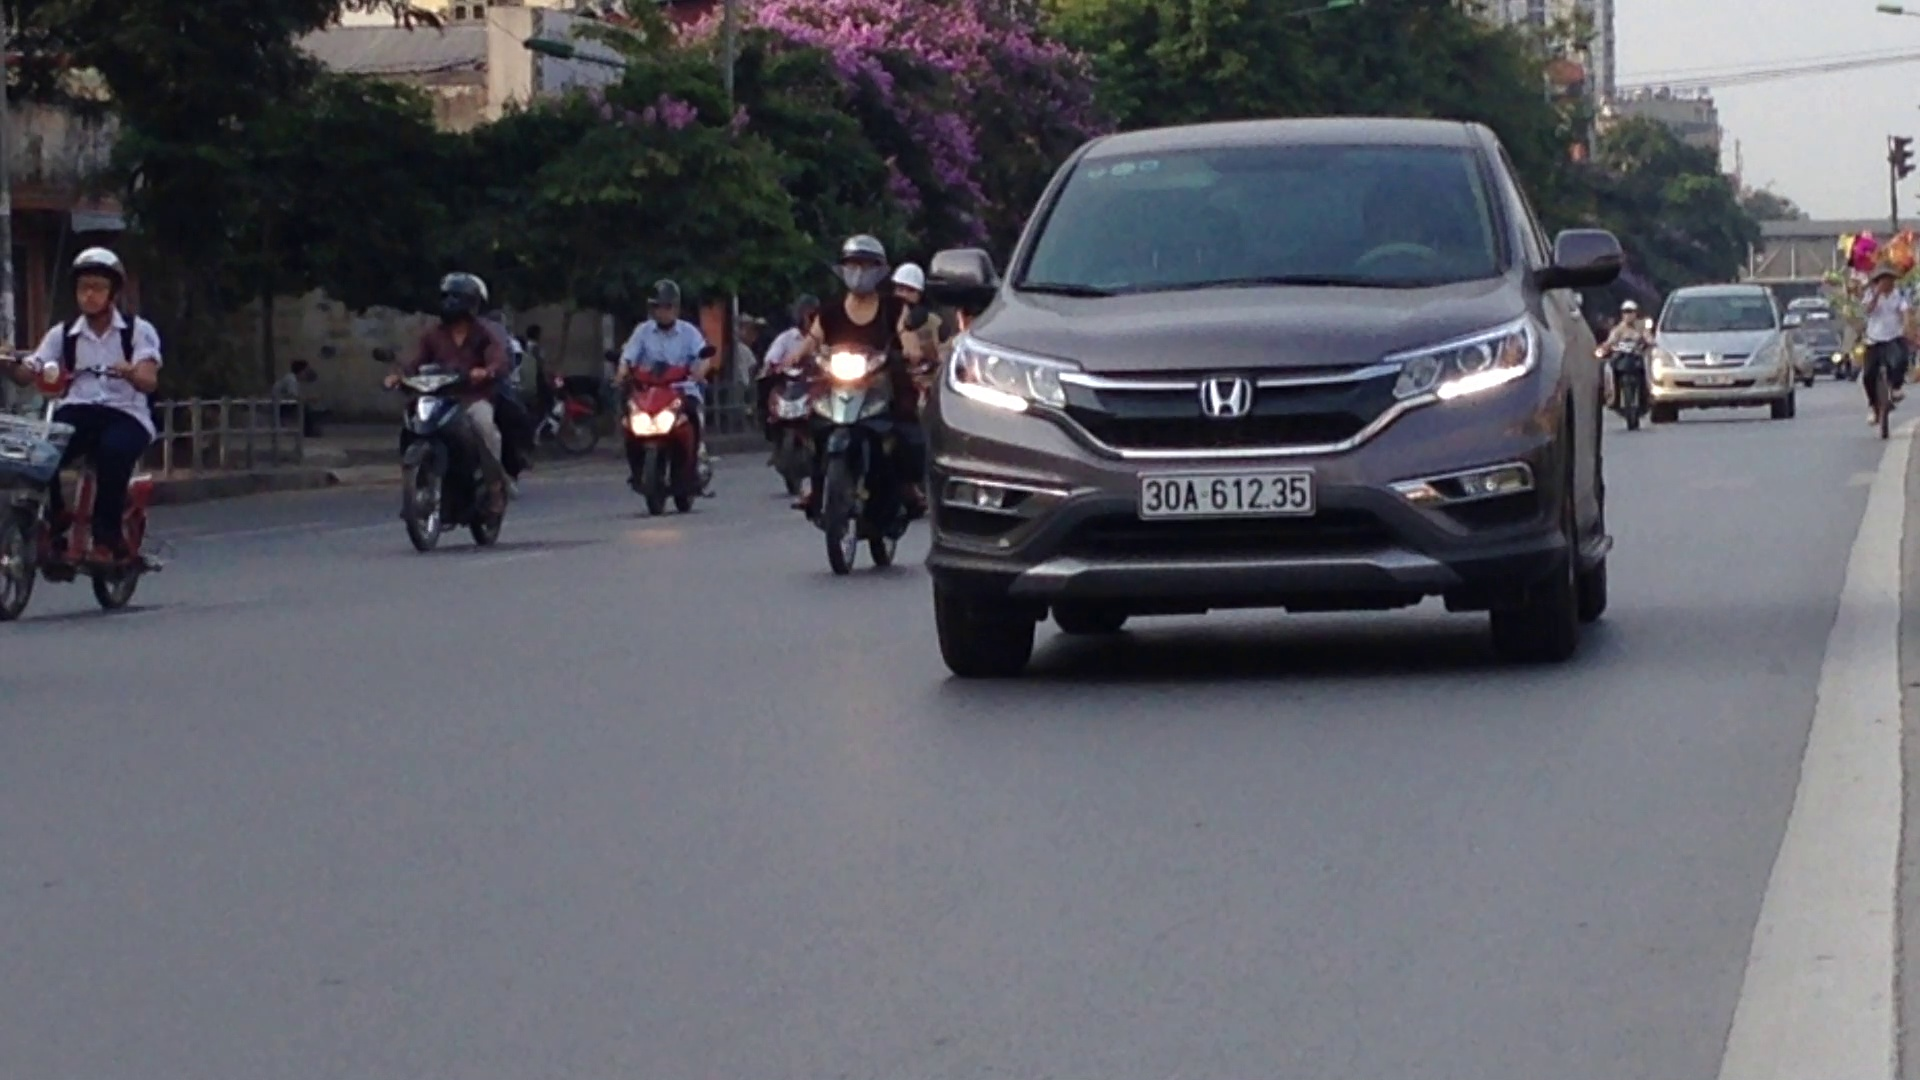vehicle-plate: (1132, 464, 1315, 517)
